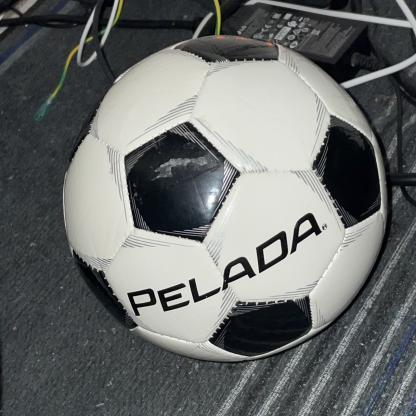ball: (61, 36, 388, 364)
